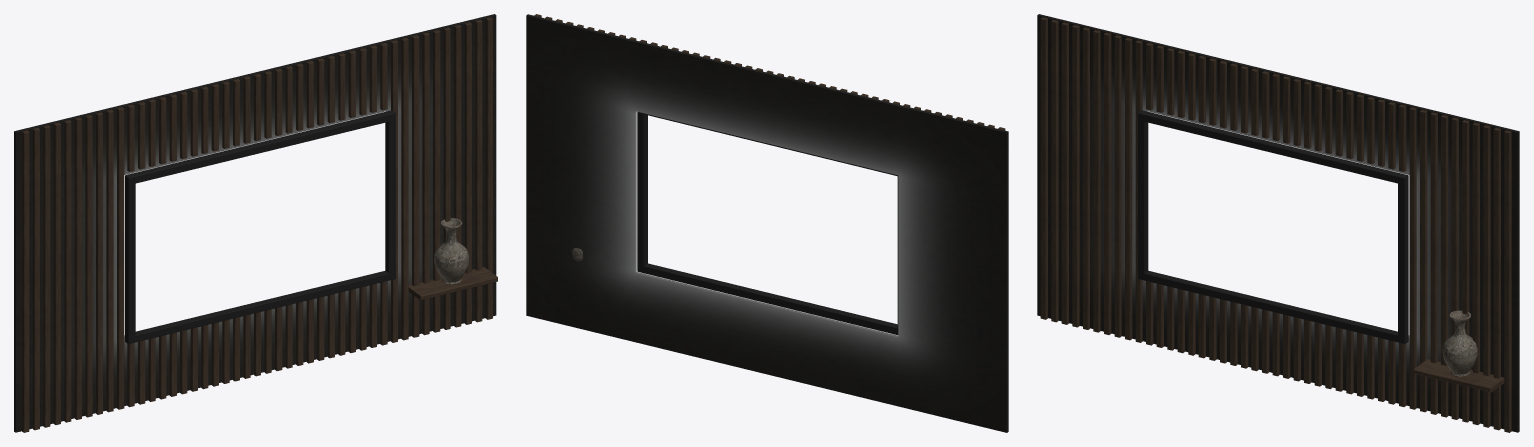
The model's file is frame_slats.glb.
3 renders of one model, left to right at view 1: azimuth 30°, elevation 25°; view 2: azimuth 150°, elevation 25°; view 3: azimuth 330°, elevation 25°, orthographic.
Parts seen in each view (by area): view 1: slats, felt, steel, prop-vase, shelf; view 2: felt, steel, slats; view 3: slats, felt, steel, prop-vase, shelf.
Part boxes in pixels (x1,y1,x2,y2): slats: (22,17,492,432); felt: (14,14,496,432); steel: (125,110,395,344); prop-vase: (434,218,468,284); shelf: (408,266,497,300); felt: (526,14,1008,432); steel: (637,112,898,334); slats: (534,14,1005,130); slats: (1040,17,1511,432); felt: (1037,14,1519,432); steel: (1138,110,1408,343); prop-vase: (1442,310,1477,376); shelf: (1414,359,1504,392).
Bounding box in the file's own units: 3.1 × 1.85 × 0.1966.
5 materials, 4 textured.
